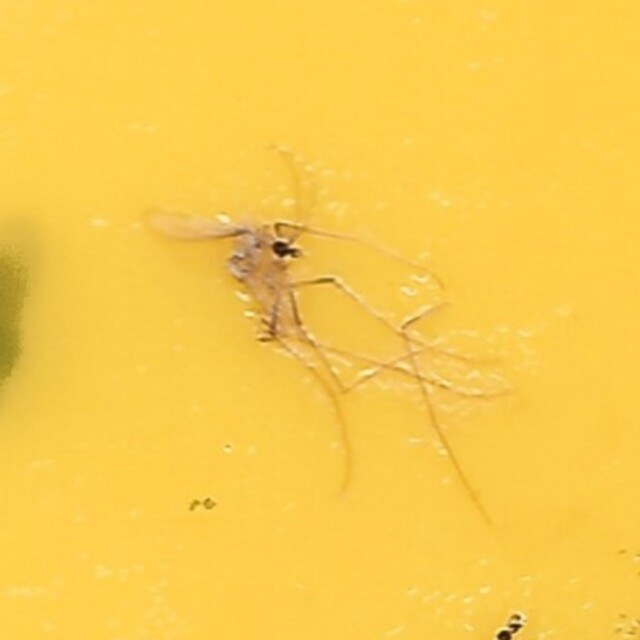Nematocera: (142, 137, 498, 503)
